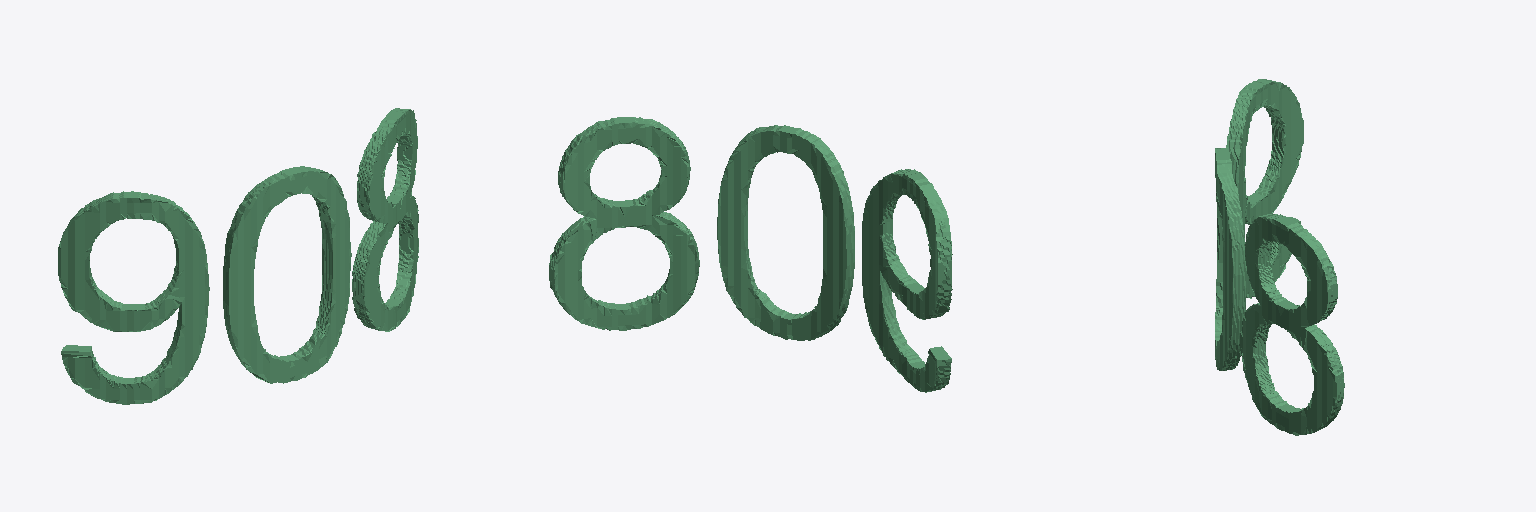
File: port_8.obj
3 renders of one model, left to right at view 1: azimuth 30°, elevation 25°; view 2: azimuth 150°, elevation 25°; view 3: azimuth 270°, elevation 25°, orthographic.
Parts seen in each view (by area): view 1: Text01; view 2: Text01; view 3: Text01.
Boxes of the visible parts, box(x1,y1,x2,y2) form: Text01: box(58, 108, 418, 404); Text01: box(549, 117, 952, 392); Text01: box(1215, 79, 1344, 435).
Bounding box in the file's own units: 3.06 × 1.59 × 0.91.